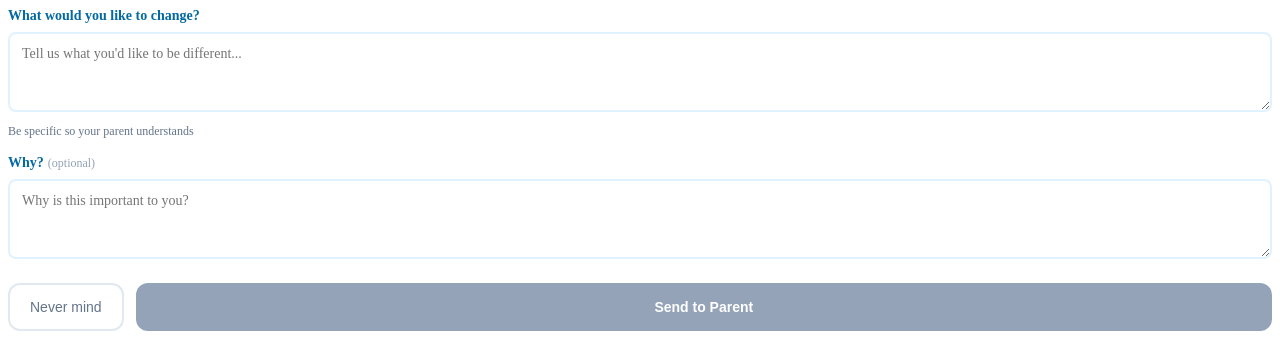
Test: ChangeRequestForm › Task 1.4: Submit button › should be enabled when what-to-change has content
Type "More time" into the text box with test id "what-to-change-input" at (640, 72), box [8,32,1272,112]
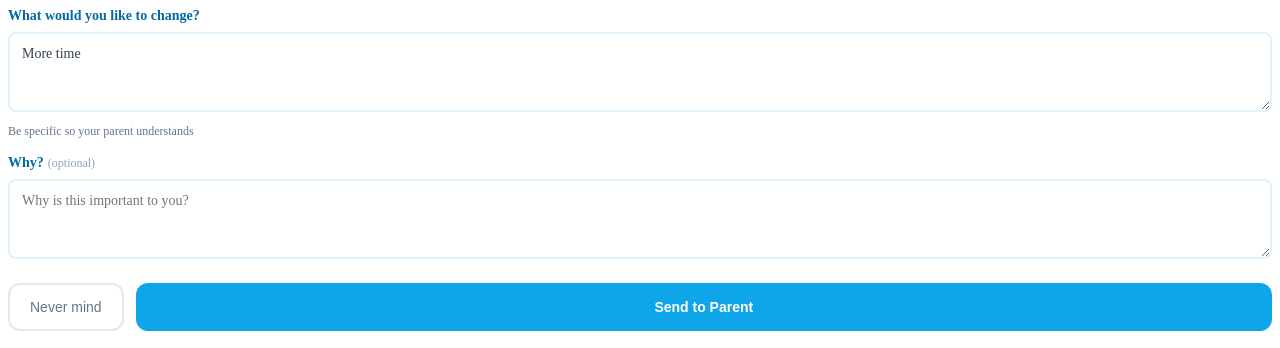
Result: the button with test id "submit-button" is enabled at [136,283,1272,331]
